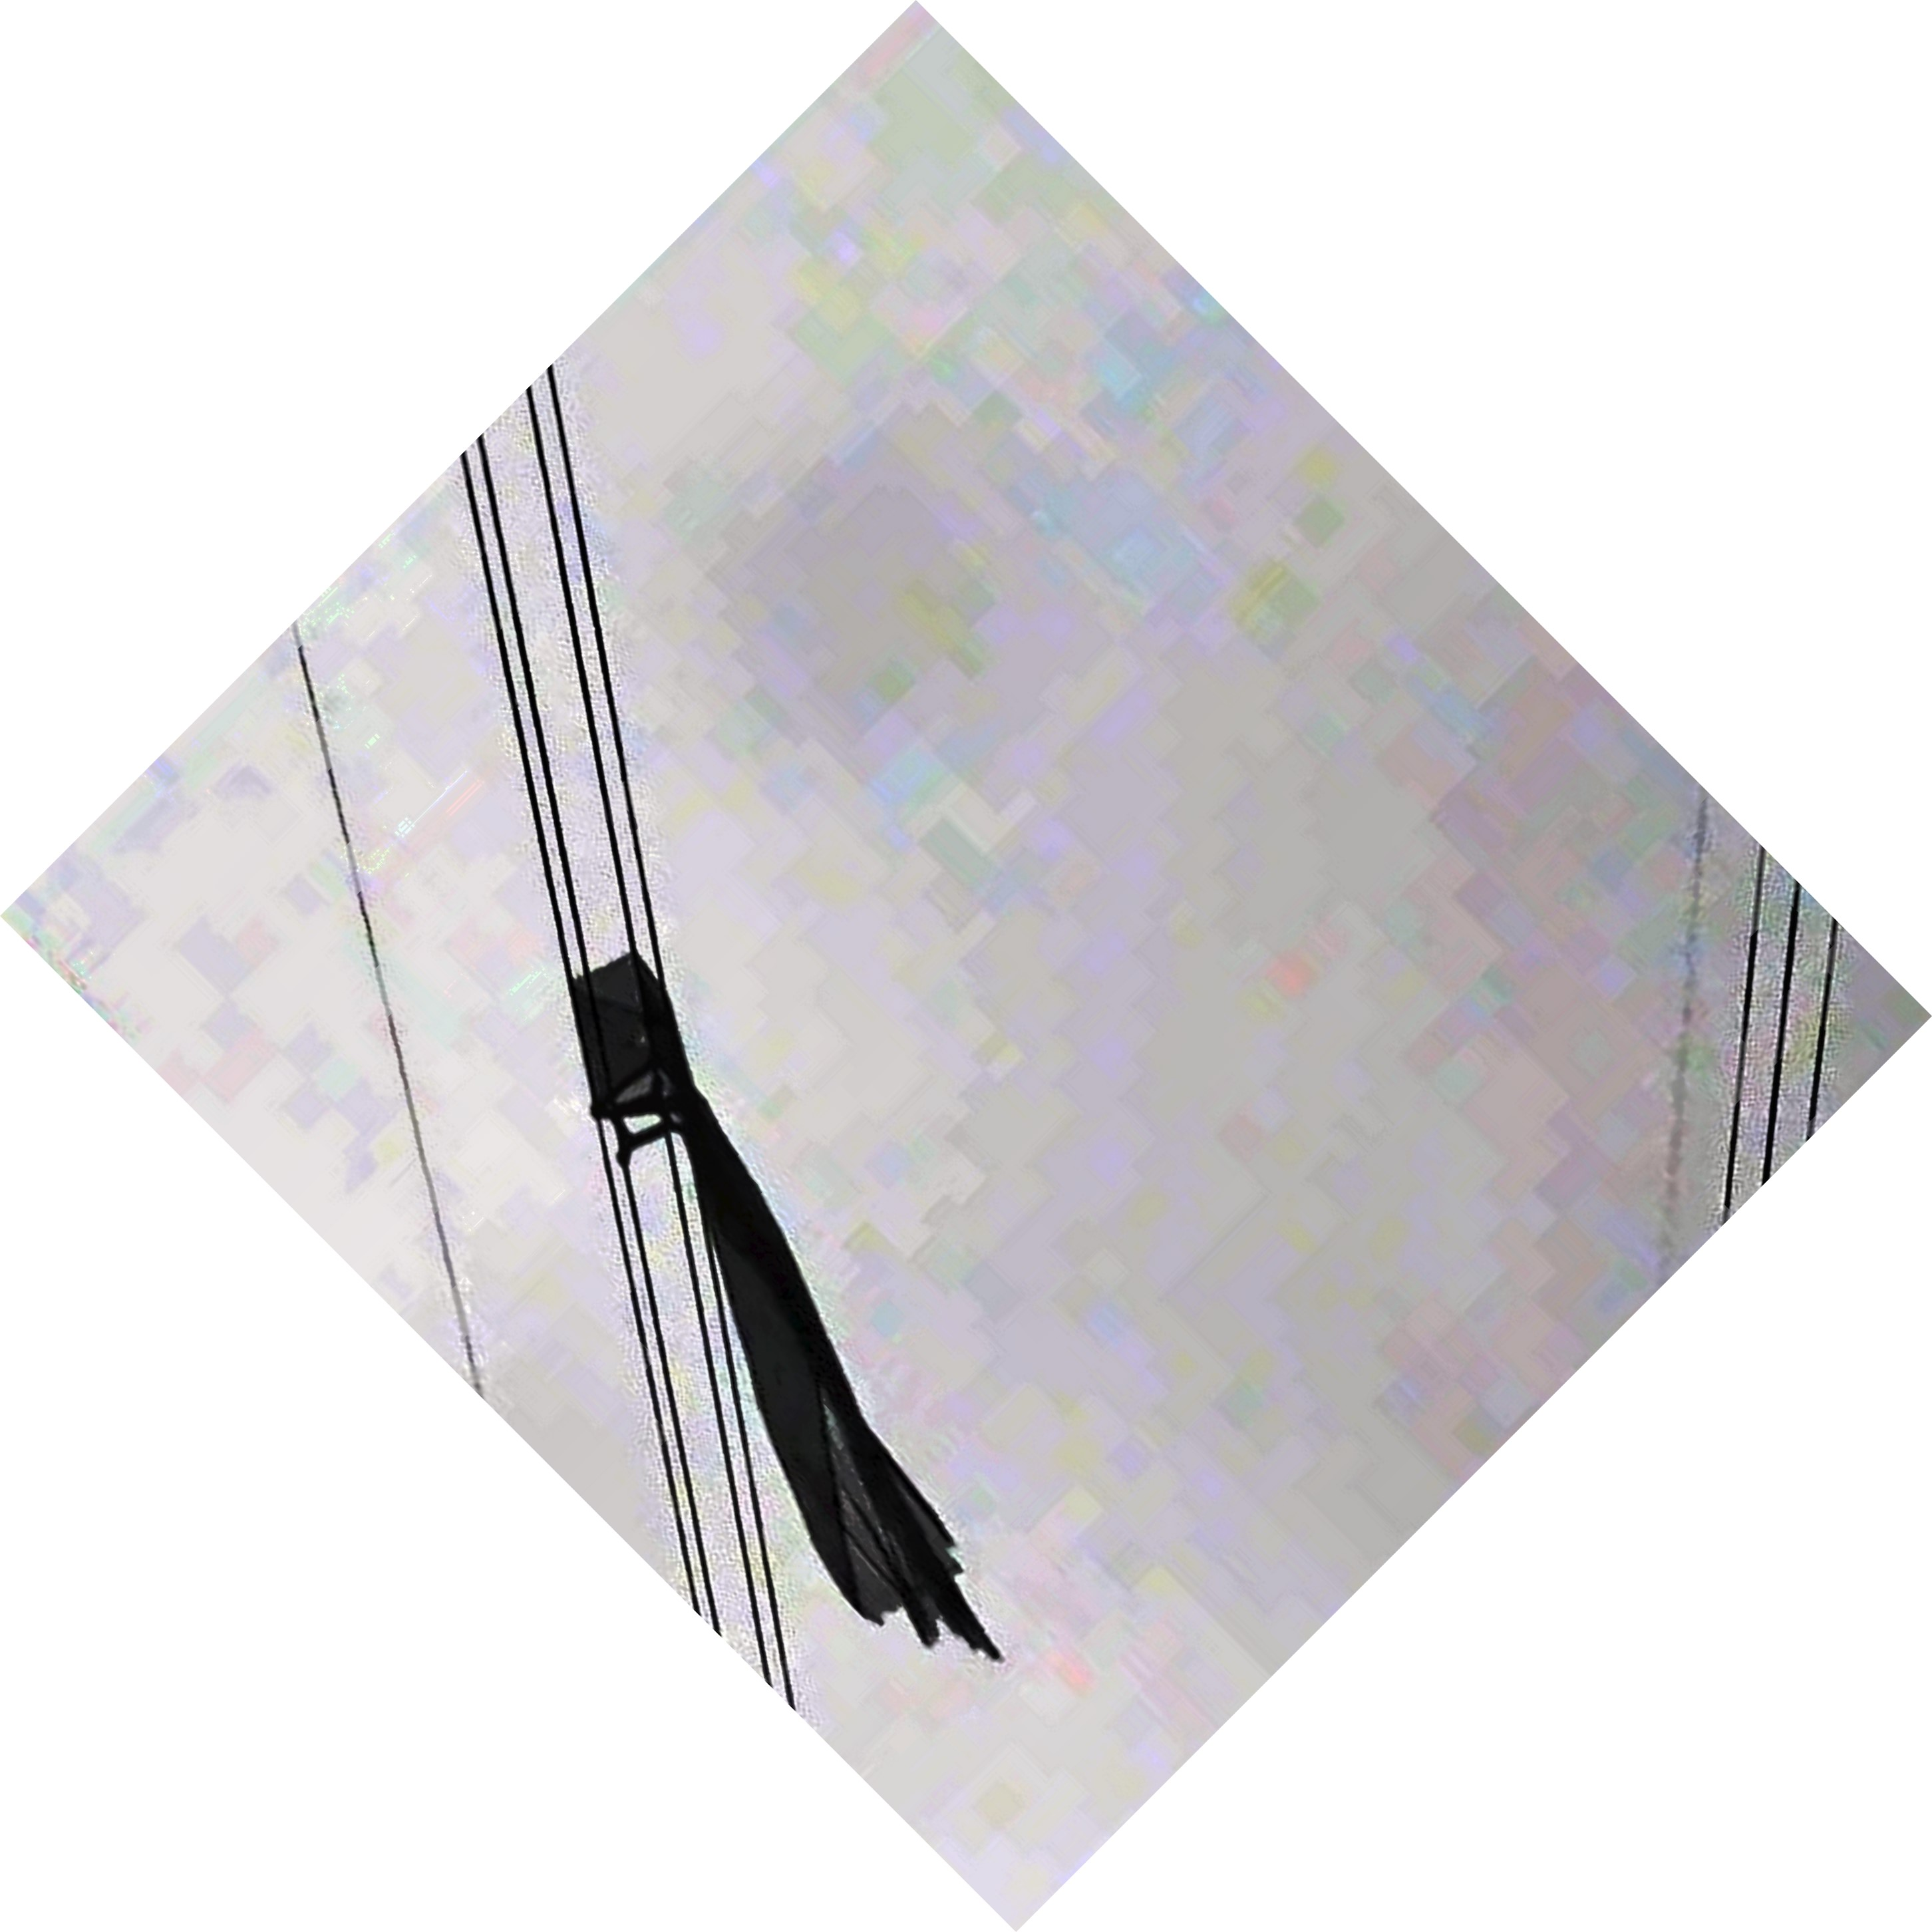wire foreign body: (550, 936, 1017, 1667)
